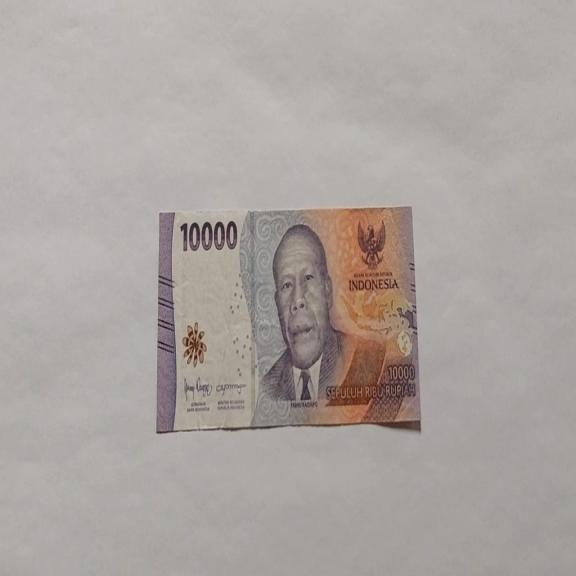Kertas: (156, 204, 421, 434), (179, 218, 238, 254)
